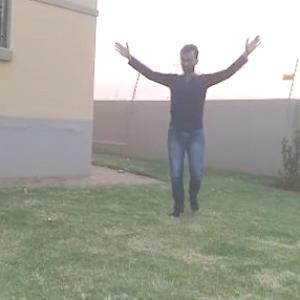takeoff: (113, 38, 260, 210)
